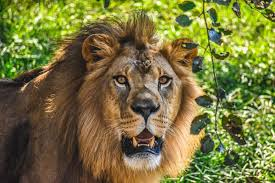lion: (10, 23, 228, 182)
